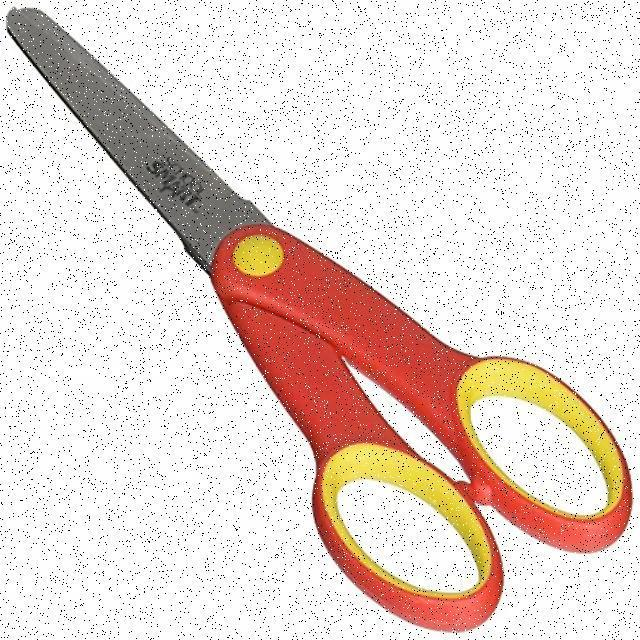scissors: (4, 3, 635, 635)
